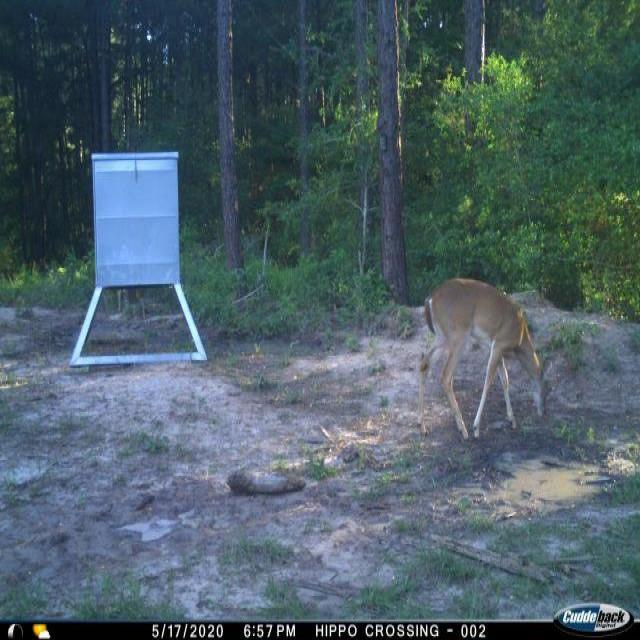deer: (415, 275, 554, 445)
